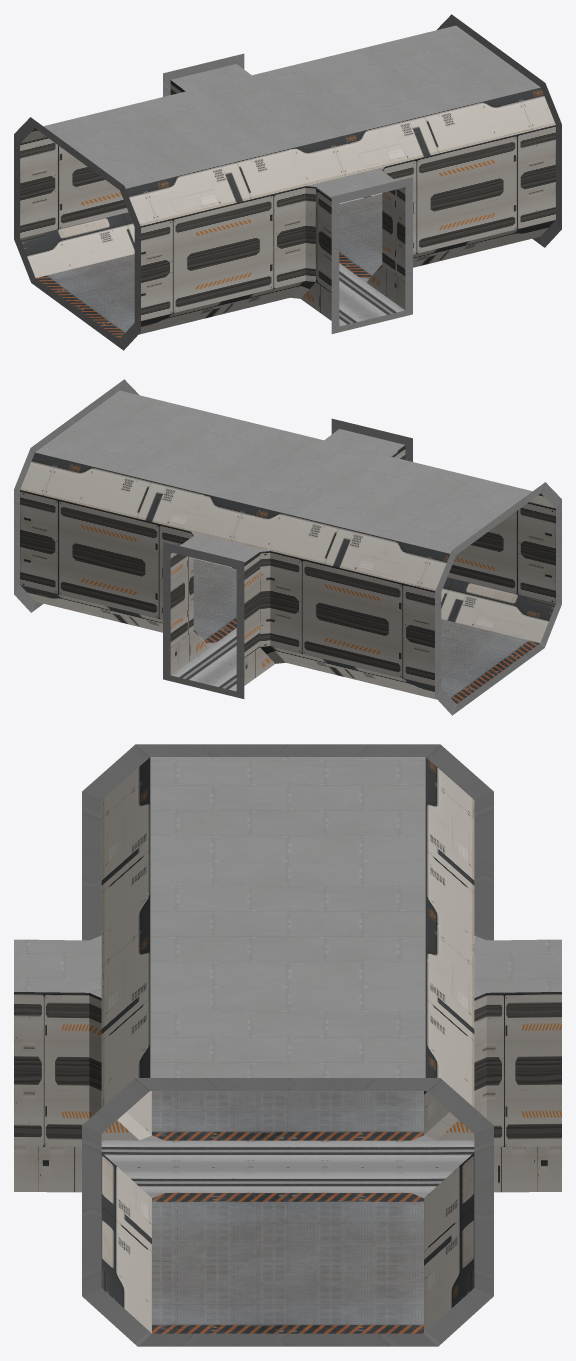
The model's file is lab_section_cells.FBX.
The picture shows the model from 3 angles, top to bottom: view 1: azimuth 30°, elevation 25°; view 2: azimuth 150°, elevation 25°; view 3: azimuth 270°, elevation 25°; orthographic projection. The views are drawn at different scales.
Parts seen in each view (by area): view 1: Tonnel; view 2: Tonnel; view 3: Tonnel.
Boxes of the visible parts, bbox=[...] form: Tonnel: bbox=[14, 14, 561, 350]; Tonnel: bbox=[14, 379, 561, 715]; Tonnel: bbox=[14, 744, 561, 1346].
Bounding box in the file's own units: 5.16 × 1.94 × 3.58.
